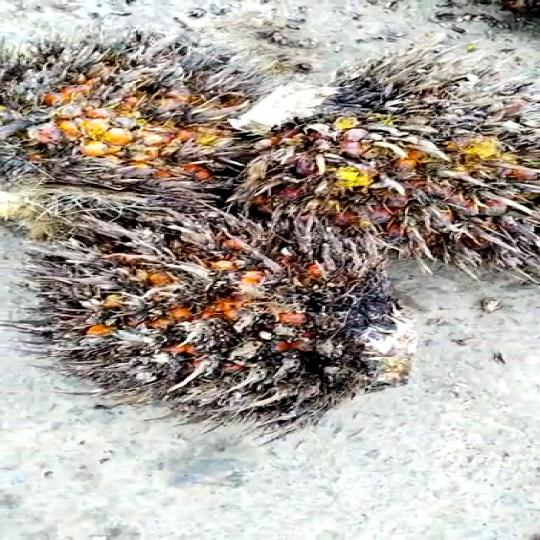terlalu masak: (18, 208, 419, 432), (237, 63, 540, 276), (0, 40, 257, 192)
